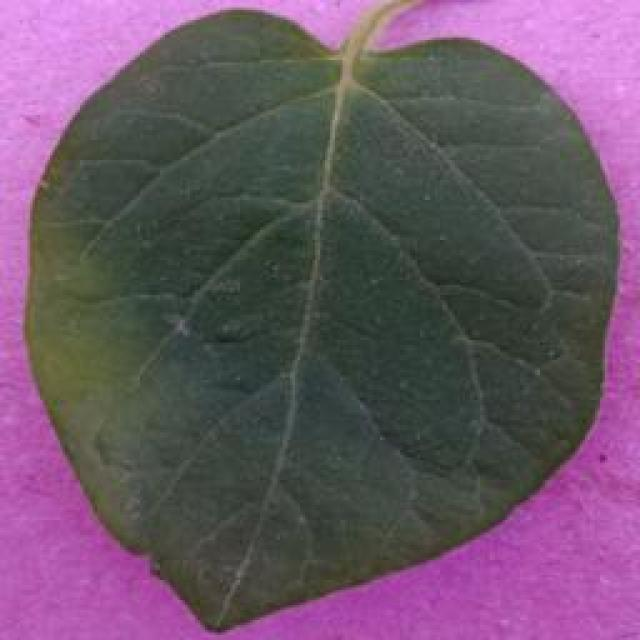Potato_Healthy: (22, 6, 611, 632)
